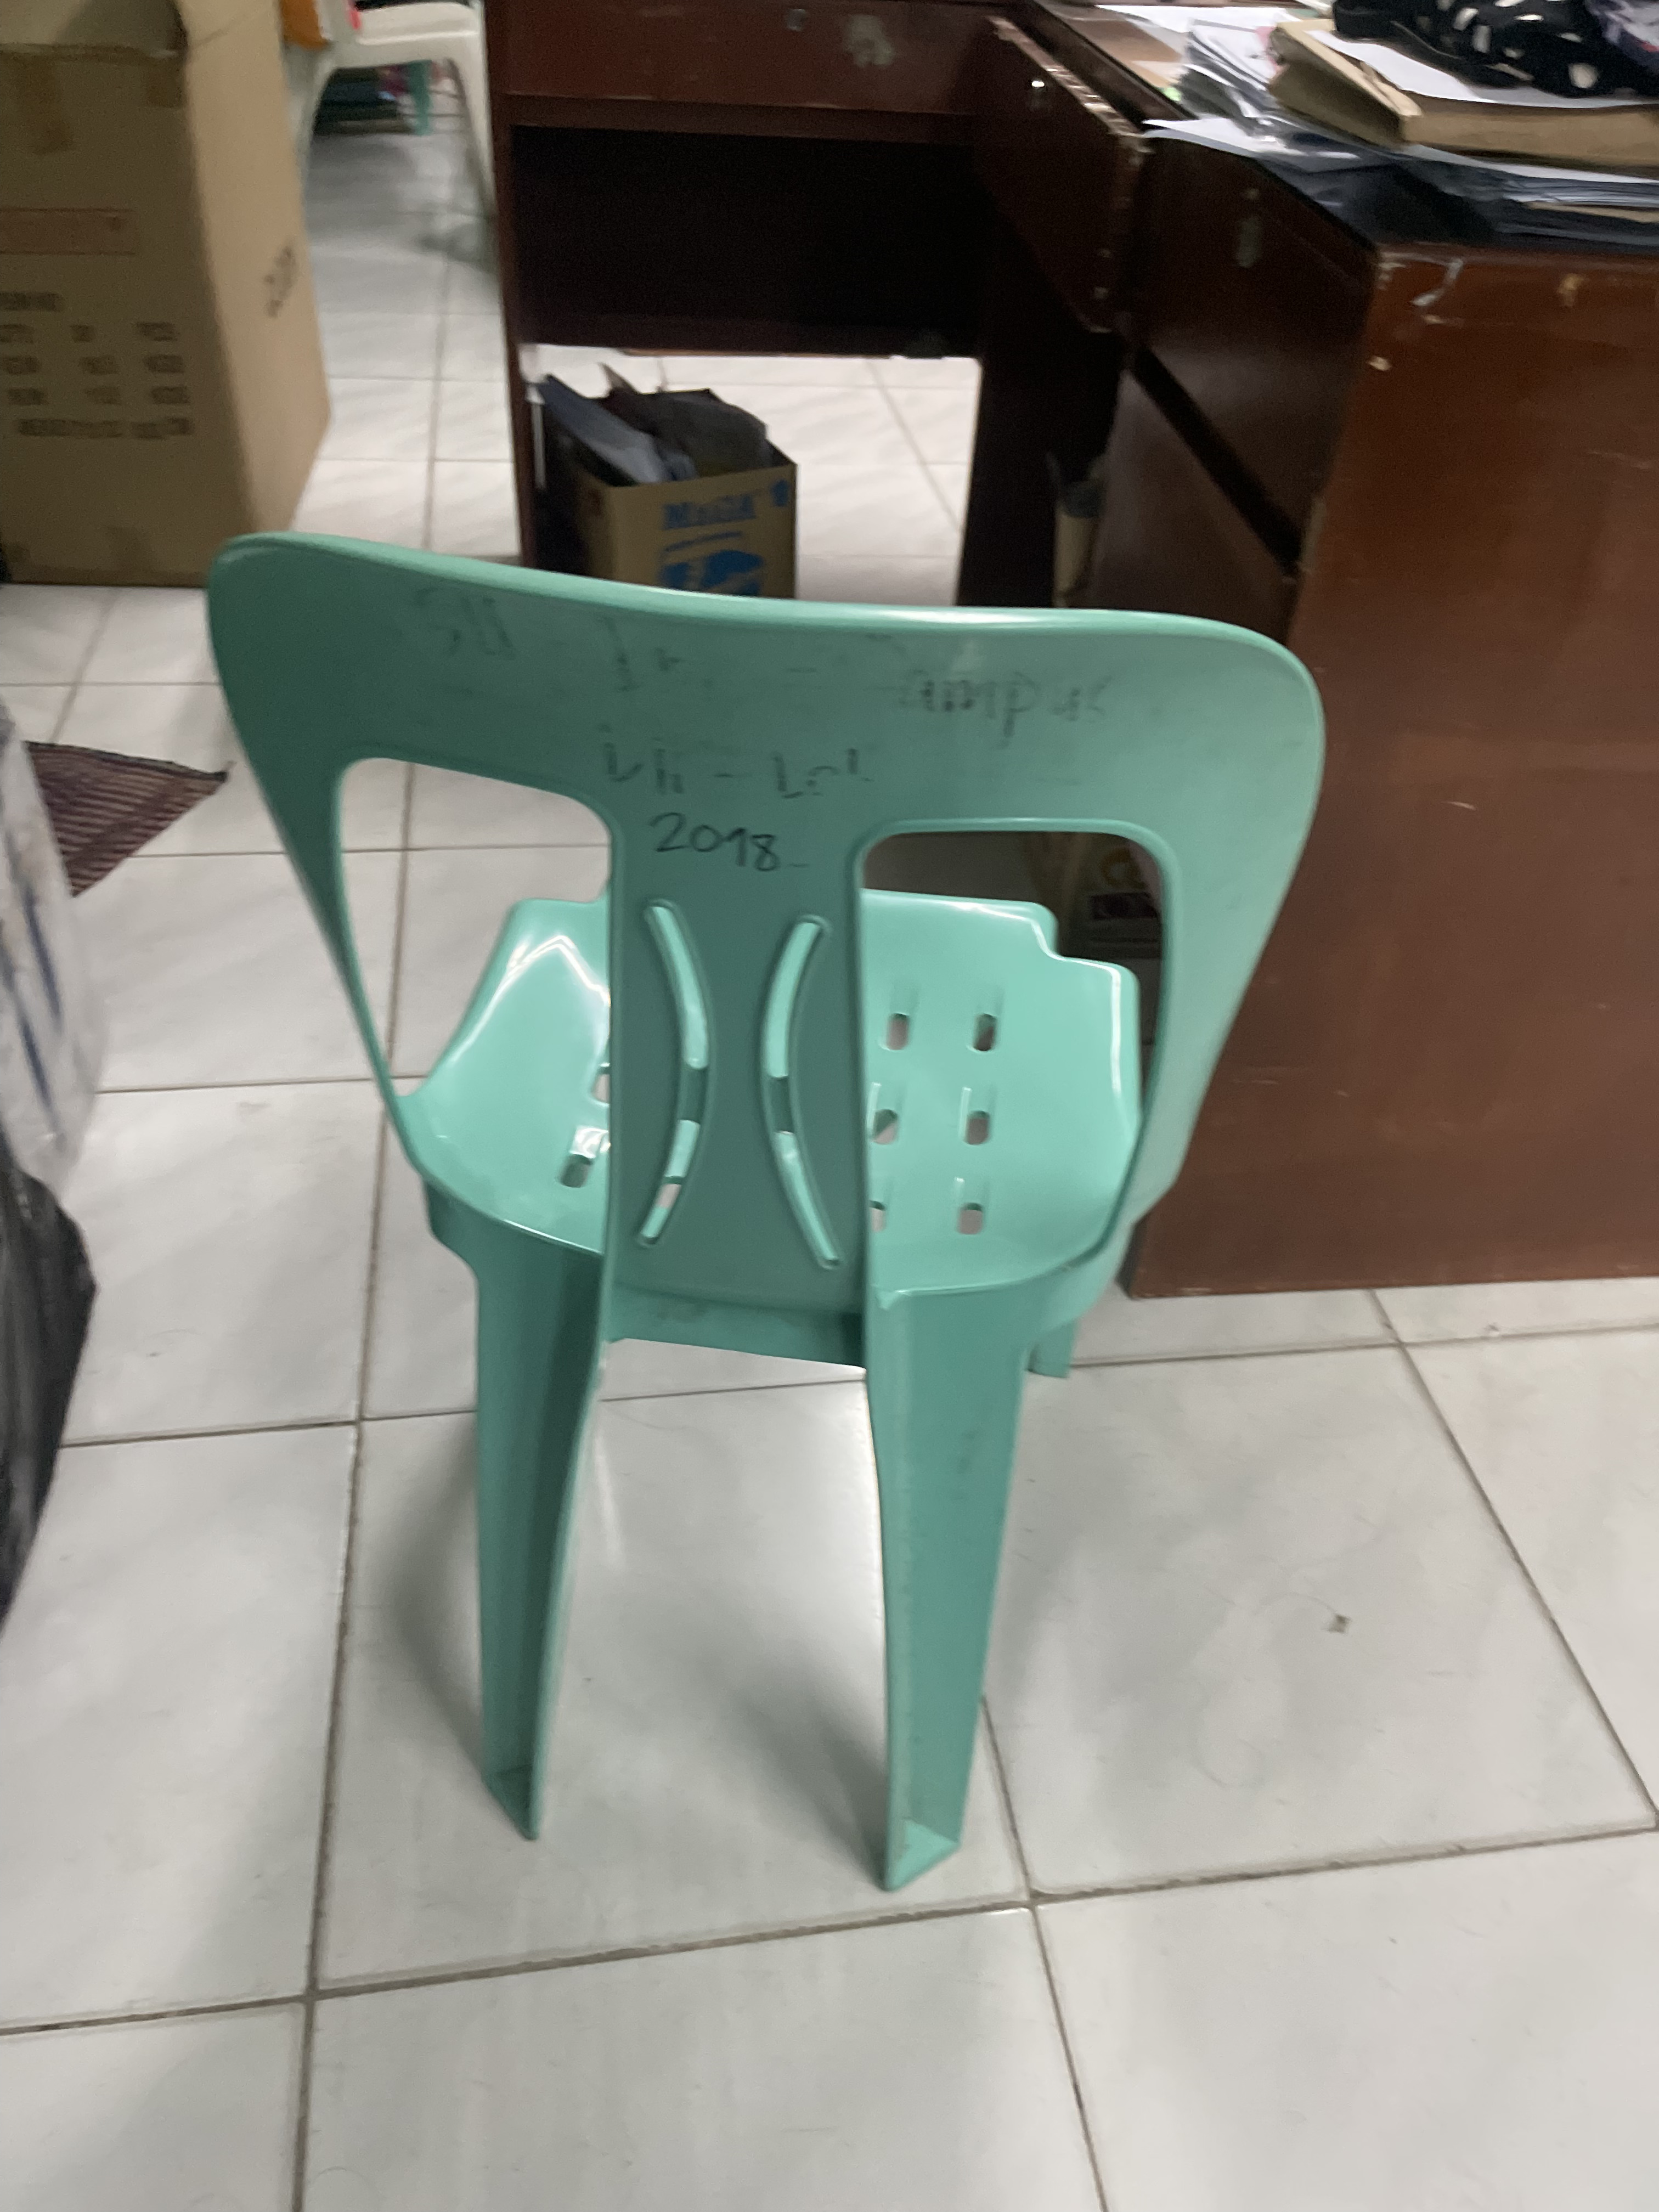chair2: (188, 512, 1330, 1919)
